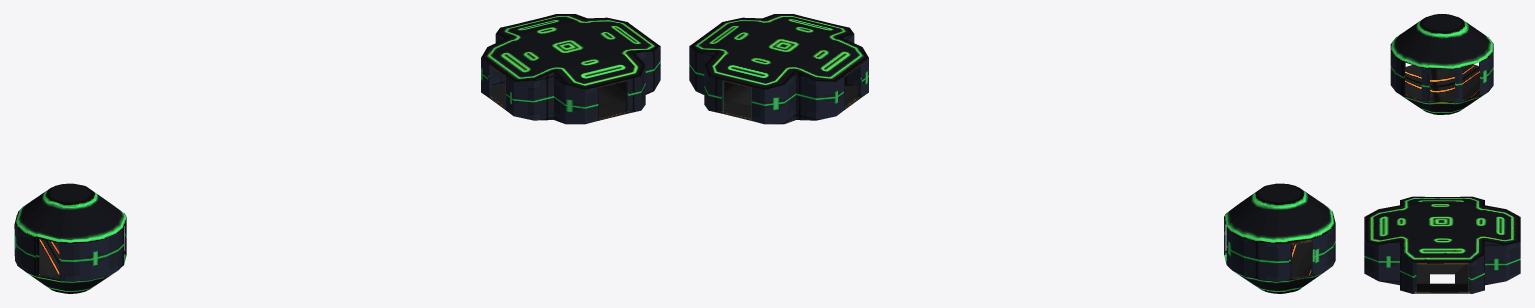
File: collider.fbx
3 views of the same model, side by side, from view 1: azimuth 30°, elevation 25°; view 2: azimuth 150°, elevation 25°; view 3: azimuth 270°, elevation 25° (orthographic). The views are drawn at different scales.
Parts seen in each view (by area): view 1: preBoss_room, room_3, preBoss_col, room_3_col; view 2: preBoss_room, room_3, preBoss_col, room_3_col; view 3: preBoss_room, room_3, room_3_col, preBoss_col.
Part boxes in pixels (x1,y1,x2,y2): preBoss_room: (481,14,660,124); room_3: (15,183,126,293); preBoss_col: (488,64,628,119); room_3_col: (14,215,124,280); preBoss_room: (689,14,868,124); room_3: (1224,183,1335,293); preBoss_col: (721,64,861,120); room_3_col: (1226,227,1314,280); preBoss_room: (1364,196,1520,293); room_3: (1390,14,1493,114); room_3_col: (1403,62,1481,102); preBoss_col: (1415,262,1469,292).
Size of the model in its own units: 15.56 by 2.78 by 3.68.
4 materials, 4 textured.
